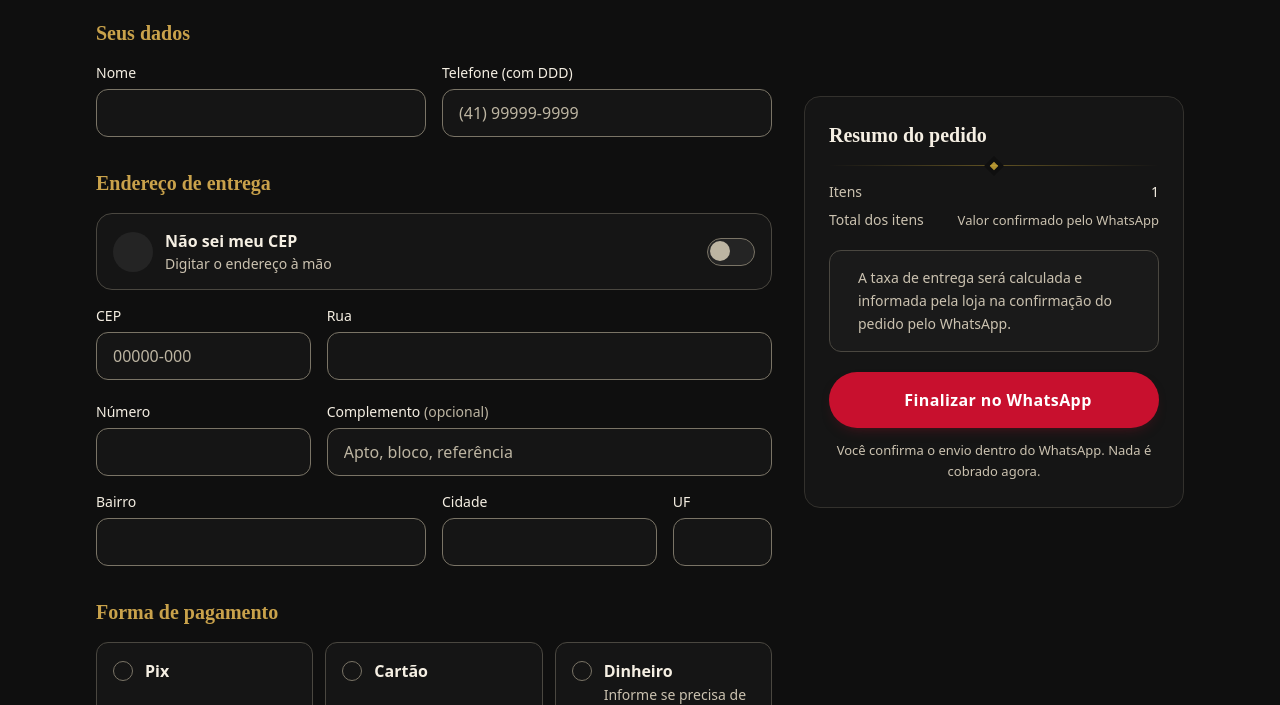
Test: Checkout: endereço manual ("Não sei meu CEP") › ligar o modo manual depois de o CEP ter liberado a entrega grátis remove o cartão na hora
(page scrolled)
Type "82015290" into the field with id "field-cep".
click(203, 356); type("82015290")  # box left=96, top=332, right=311, bottom=380
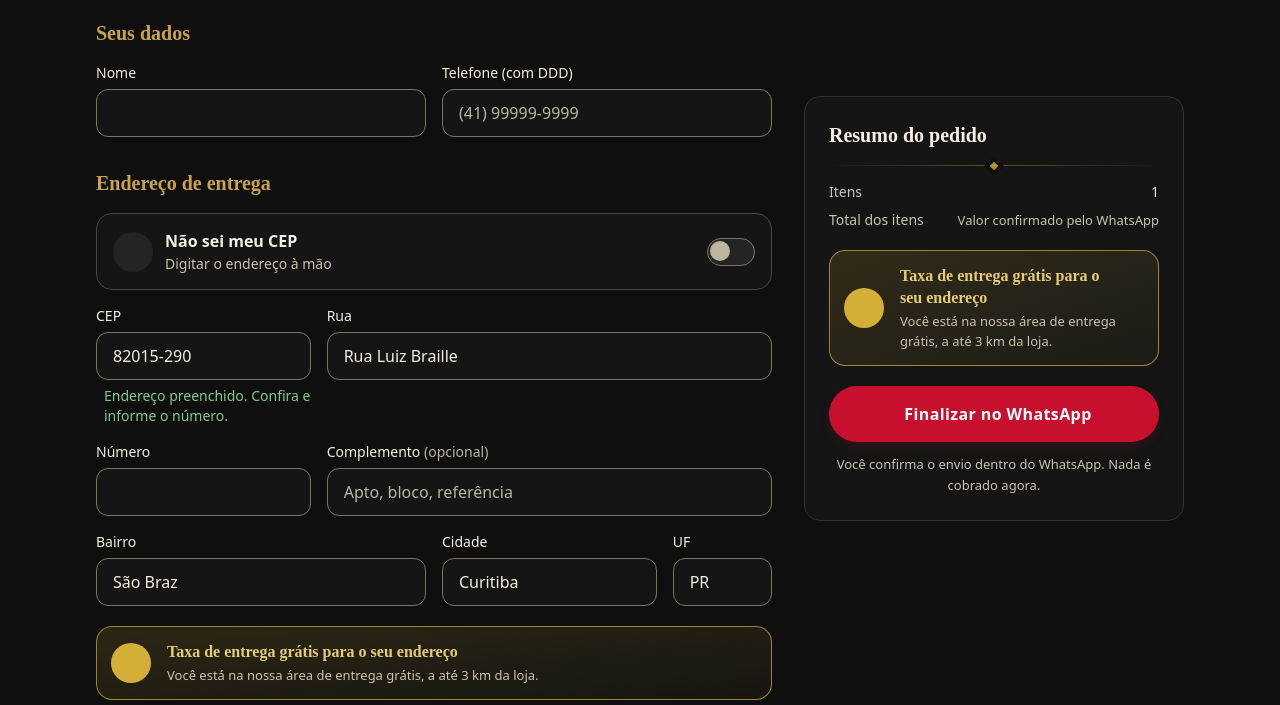
Expected: the element with id "delivery-free-inline" is shown, left=96, top=626, right=772, bottom=700
Click the switch with id "field-manualAddress".
click(133, 252)  # box left=96, top=213, right=772, bottom=290
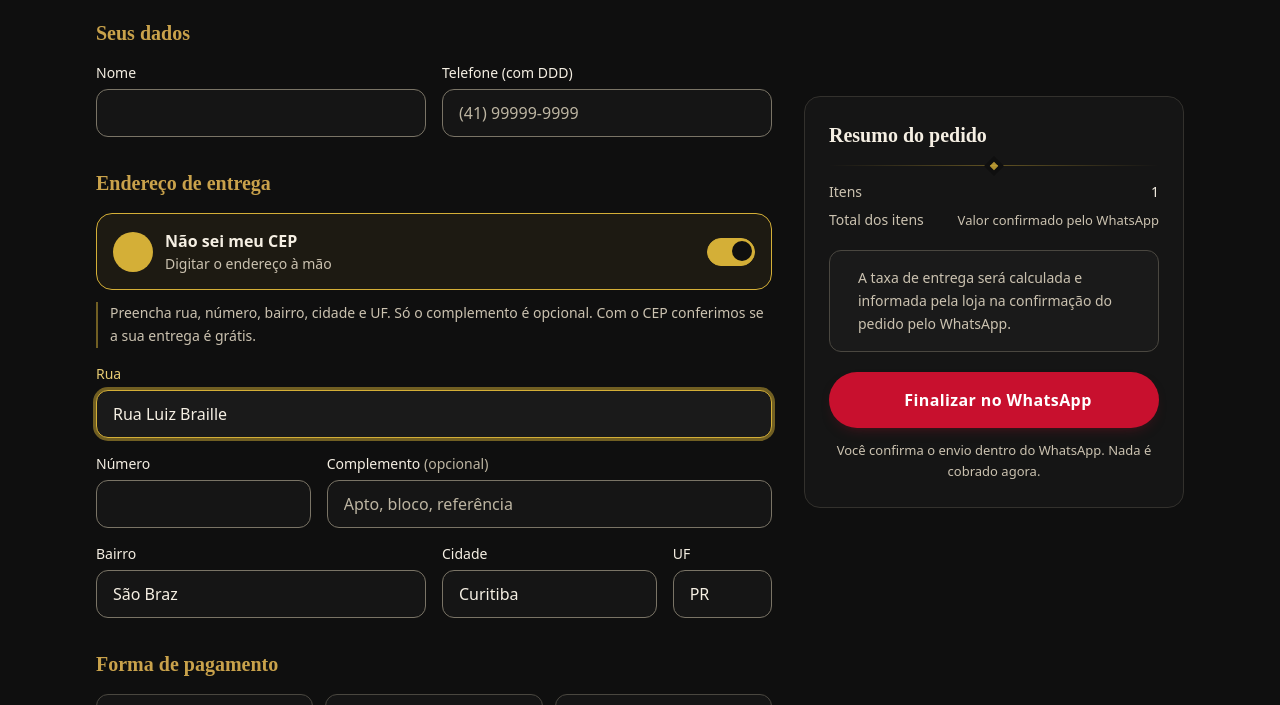
Expected: the element with id "delivery-free-inline" is gone
